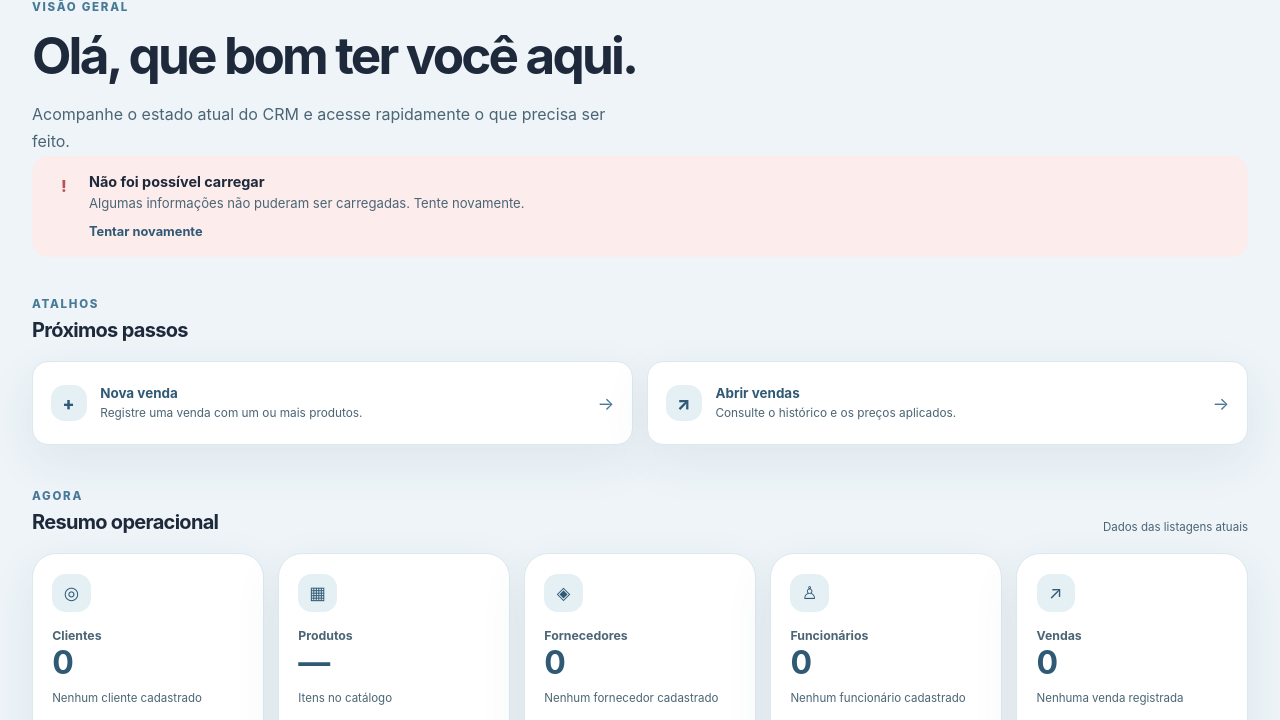
DashboardPage › shows a retryable message when one list request fails
Expected: the text "Algumas informações não puderam ser carregadas. Tente novamente." is shown, [89,194,524,213]
Expected: the text "—" is shown, [298,643,328,682]
Click the button "Tentar novamente" at (146, 231), box [89,224,203,239]
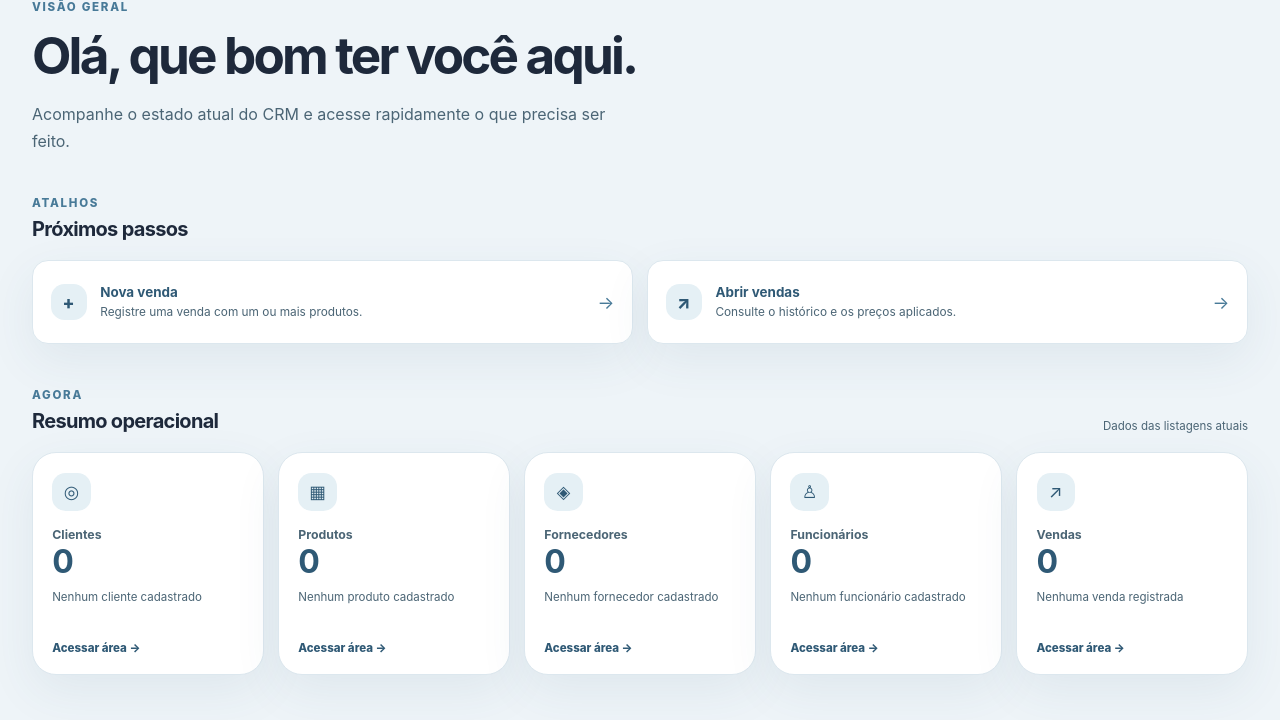
Now the text "Nenhum produto cadastrado" is shown, box [298,590,454,604]
